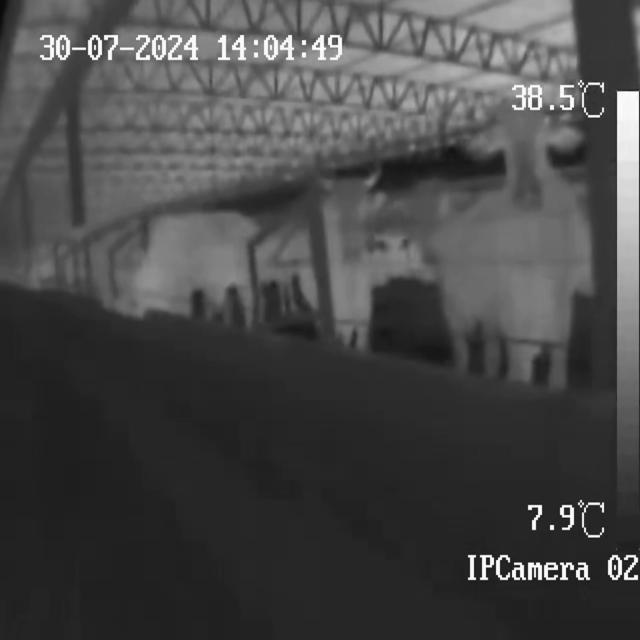eye: (533, 127, 545, 156)
head: (498, 94, 550, 213)
